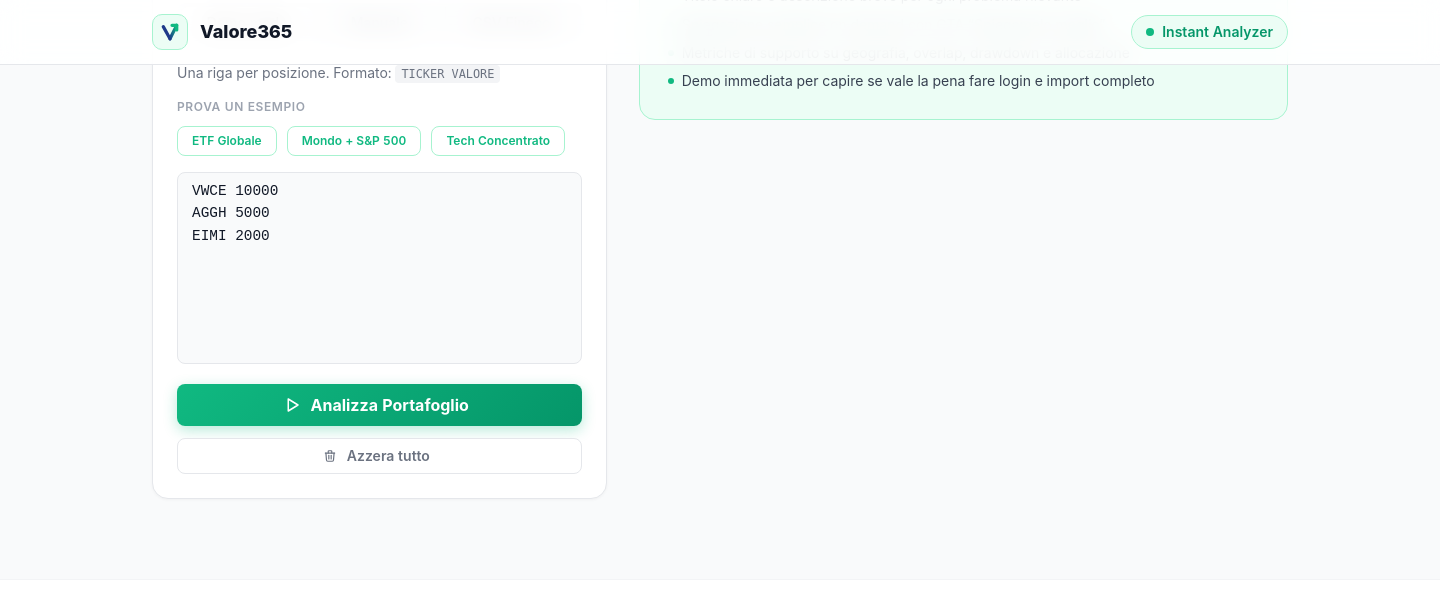
Test: InstantPortfolioAnalyzerPage › hides the signup CTA when the response disables it
(page scrolled)
Click the button "Analizza Portafoglio": (379, 405) [177,384,582,426]
(page scrolled)
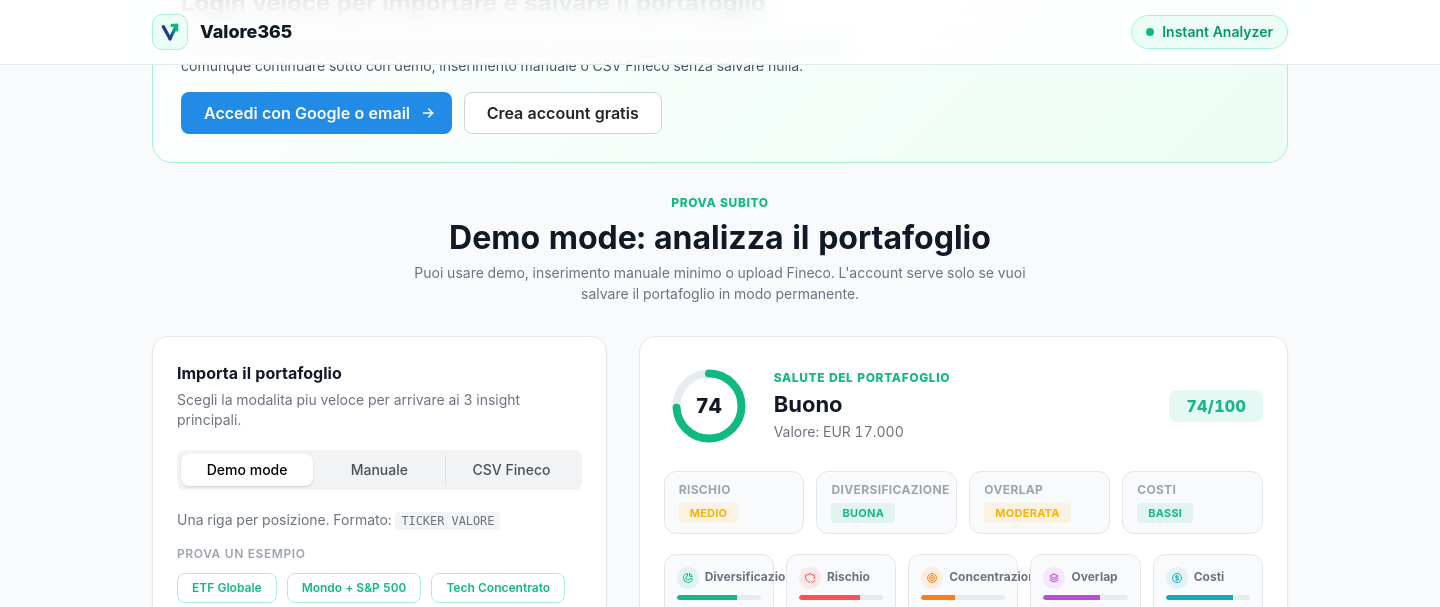
Expected: the text "74/100" is shown, [1186,391,1246,421]
